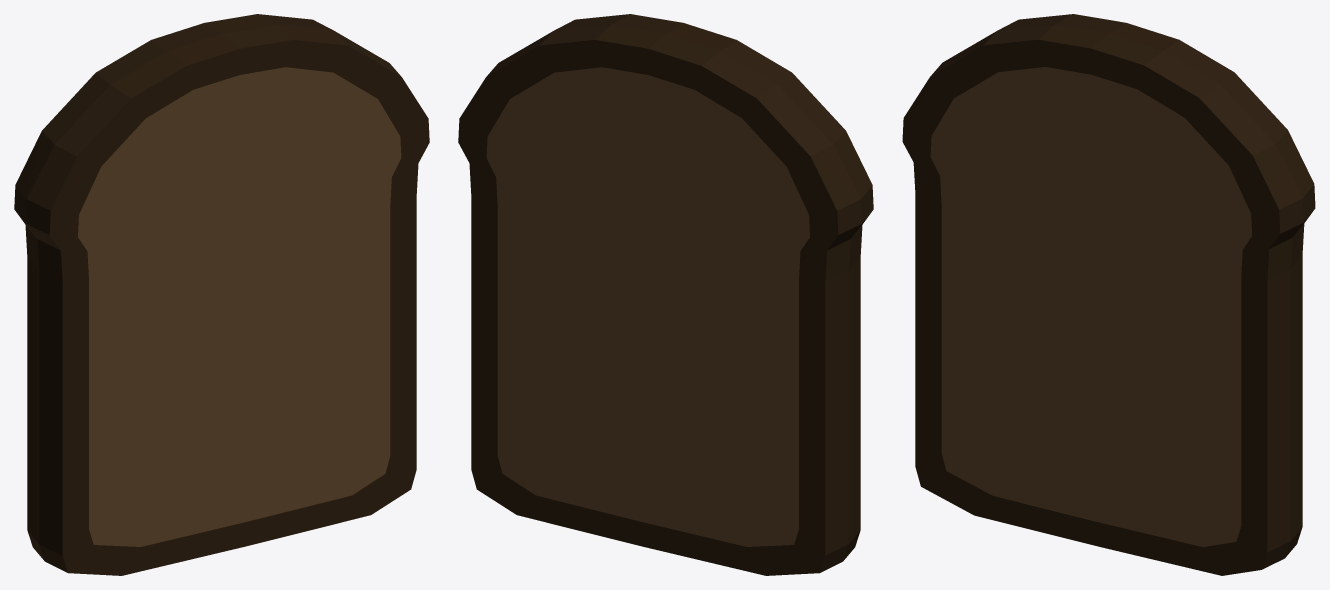
File: bread-slice.glb
3 views of the same model, side by side, from view 1: azimuth 30°, elevation 25°; view 2: azimuth 150°, elevation 25°; view 3: azimuth 330°, elevation 25° (orthographic).
Visible parts, largest first — view 1: Bread_Slice; view 2: Bread_Slice; view 3: Bread_Slice.
Boxes of the visible parts, x1=… form: Bread_Slice: x1=14, y1=14, x2=429, y2=575; Bread_Slice: x1=458, y1=14, x2=873, y2=575; Bread_Slice: x1=902, y1=14, x2=1315, y2=575.
Bounding box in the file's own units: 69.33 × 84.7 × 10.83.
